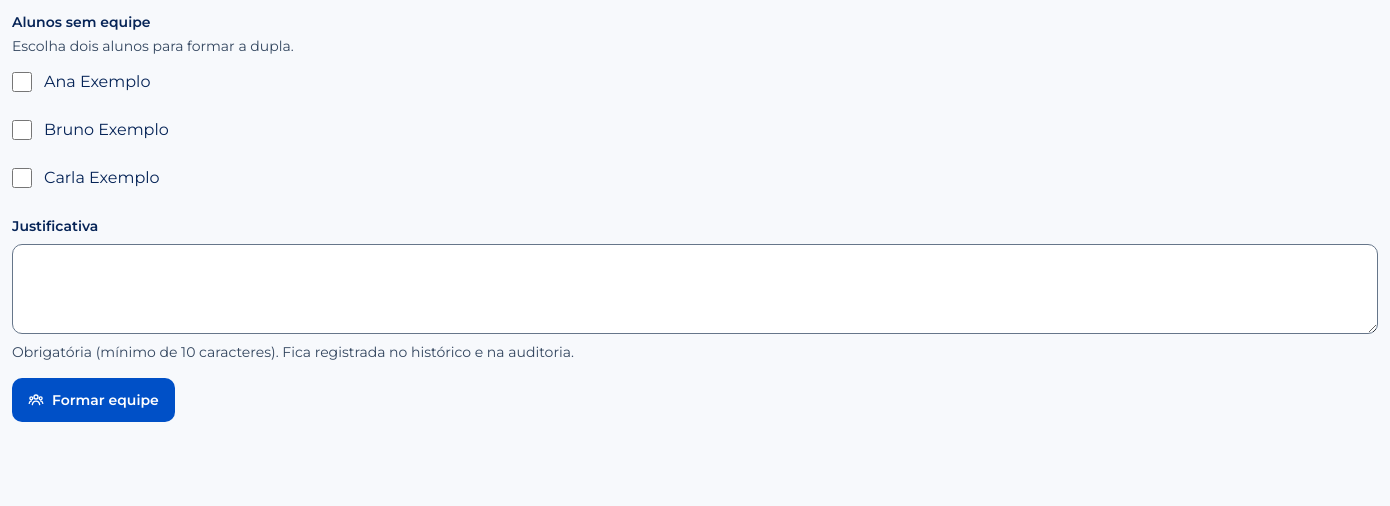
Test: FormEquipeDocente (FR-010) › valida a composição antes de enviar
The image size is (1390, 506).
Click the checkbox labelled "Ana Exemplo".
click(22, 82)  # box [12,72,32,92]
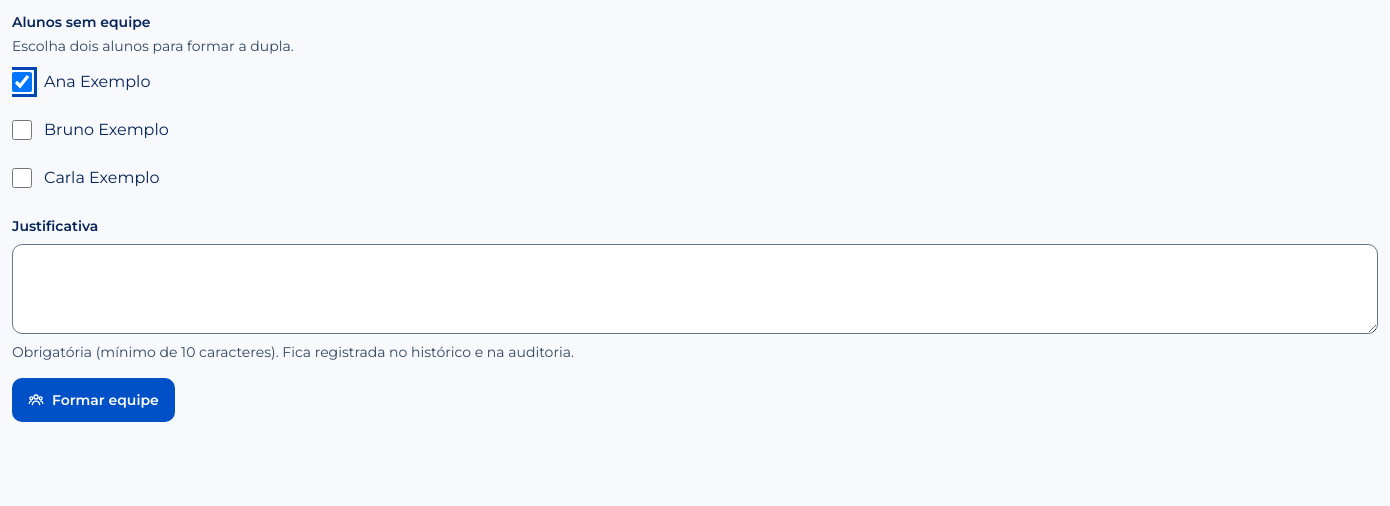
Type "Alunos que sobraram na turma" into the text box labelled "Justificativa".
click(695, 289); type("Alunos que sobraram na turma")  # box [12,244,1378,334]
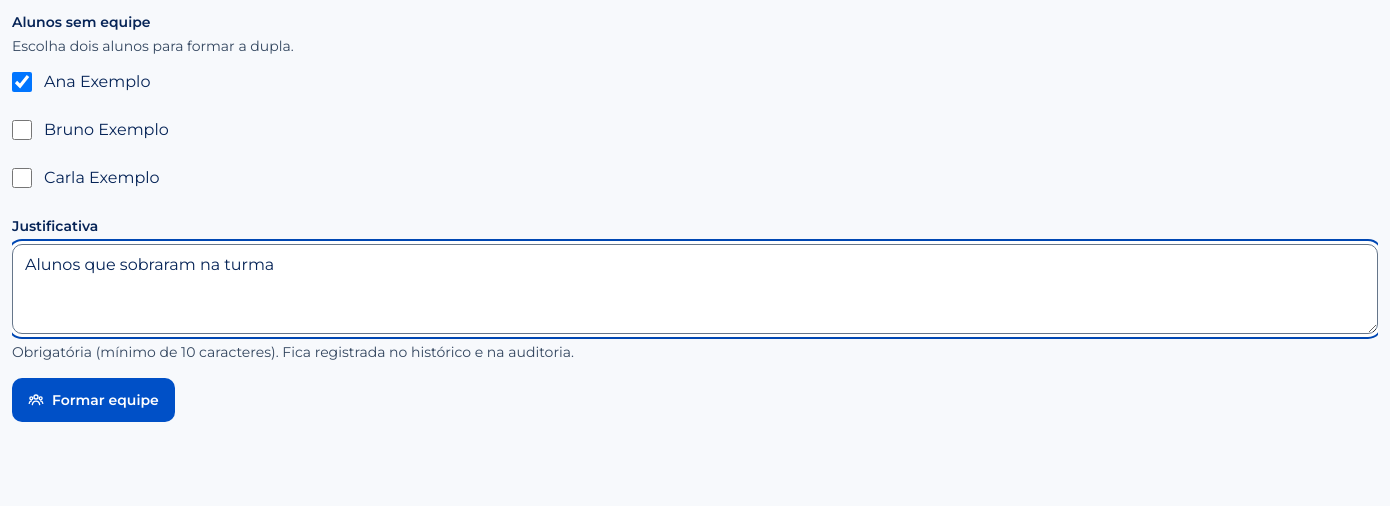
Click the button "Formar equipe".
click(93, 400)  # box [12,378,175,422]
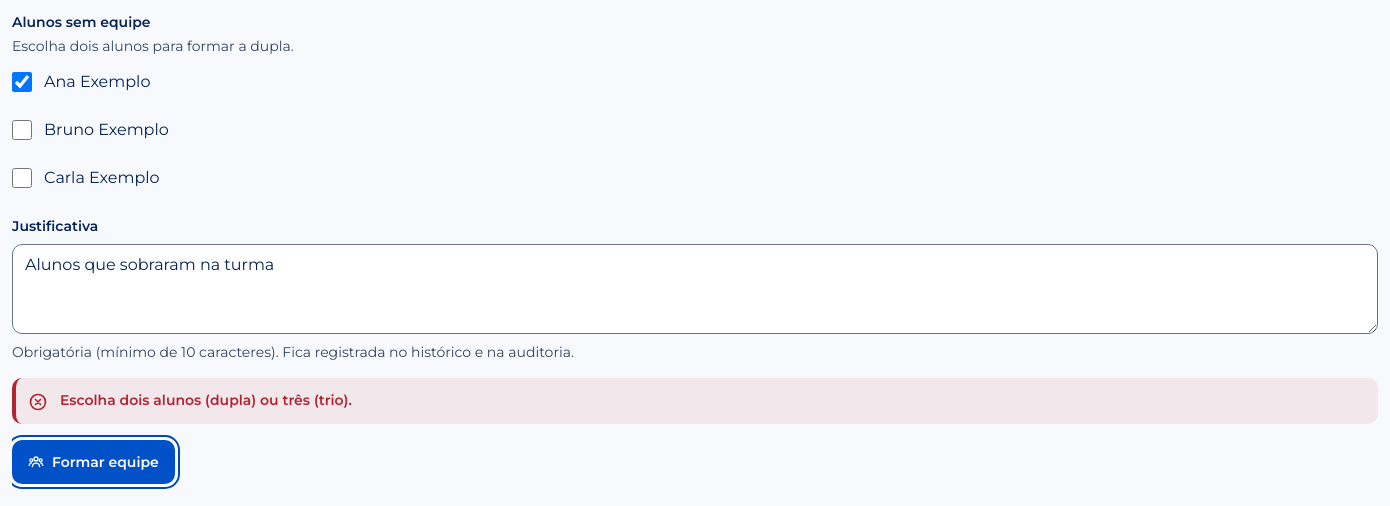
Result: the text "Escolha dois alunos (dupla) ou três (trio)." is shown at [60,390,352,410]
